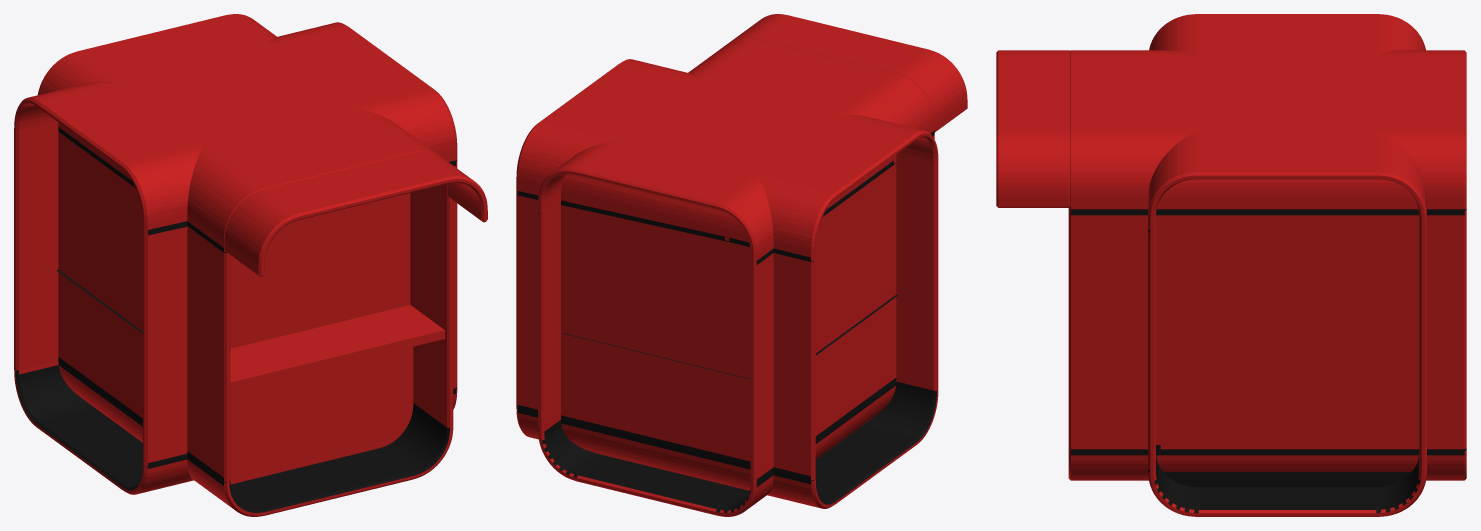
File: Kiosk.fbx
3 views of the same model, side by side, from view 1: azimuth 30°, elevation 25°; view 2: azimuth 150°, elevation 25°; view 3: azimuth 270°, elevation 25° (orthographic). The views are drawn at different scales.
Parts seen in each view (by area): view 1: Cube, Cube.006, Cube.002, Cube.001, Cube.003; view 2: Cube.006, Cube, Cube.001; view 3: Cube, Cube.006, Cube.001, Cube.008.
Part boxes in pixels (box(x1,y1,x2,y2)): Cube: box(37, 14, 453, 516); Cube.006: box(14, 22, 457, 494); Cube.002: box(230, 347, 413, 484); Cube.001: box(224, 151, 487, 276); Cube.003: box(230, 305, 444, 391); Cube.006: box(516, 59, 938, 508); Cube: box(538, 38, 934, 516); Cube.001: box(730, 14, 967, 132); Cube: box(1068, 50, 1466, 480); Cube.006: box(1148, 14, 1426, 516); Cube.001: box(996, 50, 1070, 207); Cube.008: box(1164, 472, 1410, 486).
Size of the model in its own units: 330 by 330 by 408.
